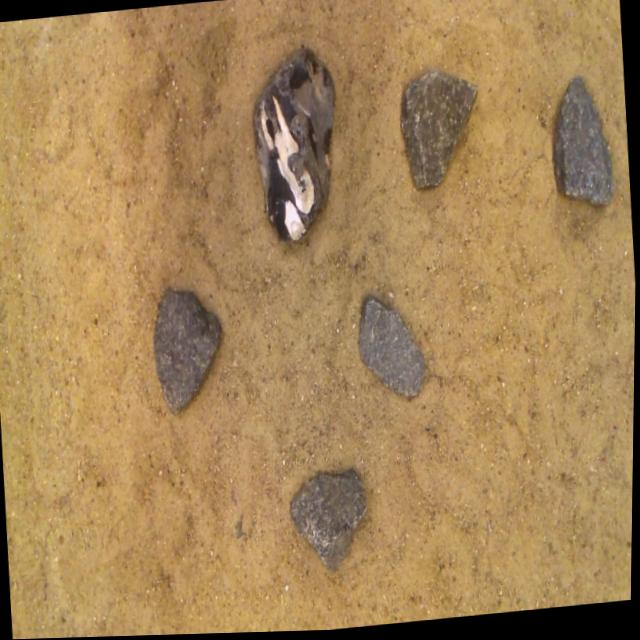rock: (254, 51, 335, 243), (401, 75, 476, 191), (154, 291, 221, 415), (553, 81, 613, 209), (292, 472, 367, 573), (360, 300, 427, 399)
